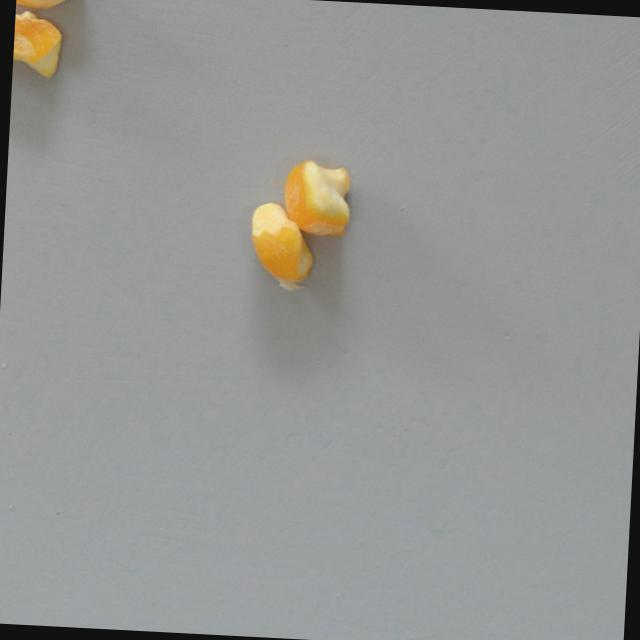pelicula: (241, 198, 321, 295), (277, 156, 356, 245), (12, 6, 64, 82), (16, 0, 97, 19)
